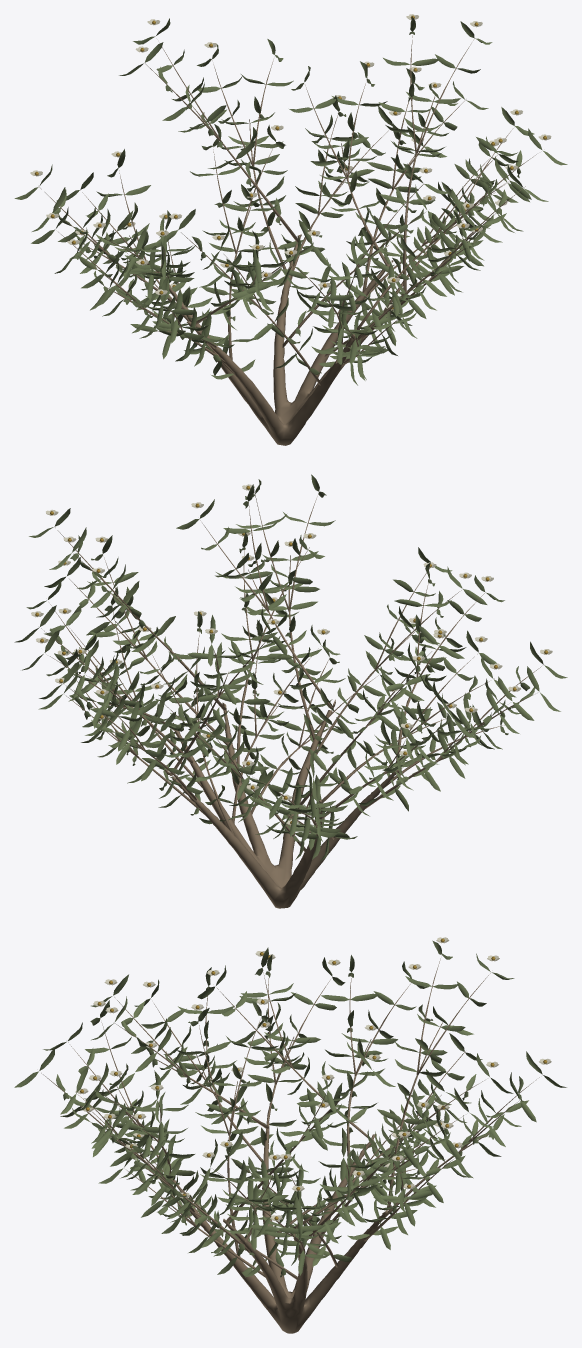
File: Ciste_2_Niveau0.fbx
3 views of the same model, one above another, from view 1: azimuth 30°, elevation 25°; view 2: azimuth 150°, elevation 25°; view 3: azimuth 270°, elevation 25° (orthographic).
Visible parts, largest first — view 1: Ciste_2_Niveau0_Jeu; view 2: Ciste_2_Niveau0_Jeu; view 3: Ciste_2_Niveau0_Jeu.
Boxes of the visible parts, x1,y1,x2,y2 form: Ciste_2_Niveau0_Jeu: (14, 14, 567, 445); Ciste_2_Niveau0_Jeu: (14, 474, 567, 908); Ciste_2_Niveau0_Jeu: (14, 937, 566, 1333).
Size of the model in its own units: 98.93 by 70.87 by 96.9.
